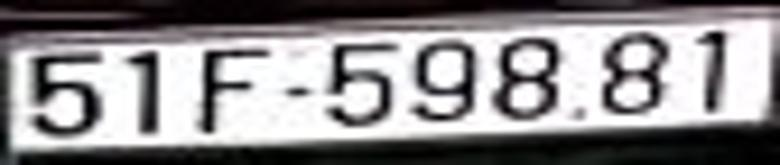-: (281, 87, 314, 96)
.: (568, 105, 589, 118)
1: (693, 29, 729, 114), (130, 48, 162, 134)
5: (34, 52, 103, 137), (329, 44, 397, 127)
8: (601, 30, 668, 118), (498, 39, 558, 125)
9: (414, 41, 477, 121)
F: (200, 49, 273, 134)
